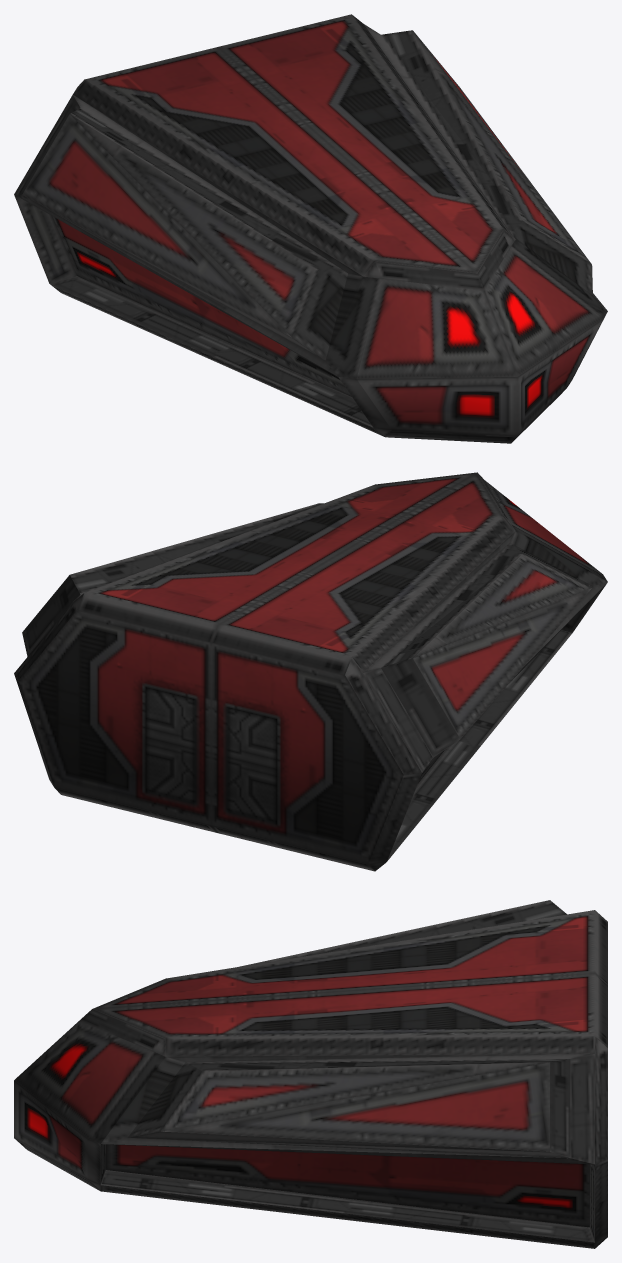
The model's file is BFP_FowardHullSection_01.FBX.
3 renders of one model, top to bottom at view 1: azimuth 30°, elevation 25°; view 2: azimuth 150°, elevation 25°; view 3: azimuth 270°, elevation 25°, orthographic. The views are drawn at different scales.
Visible parts, largest first — view 1: BFP_FowardHullSection_01; view 2: BFP_FowardHullSection_01; view 3: BFP_FowardHullSection_01.
Part boxes in pixels (x1,y1,x2,y2): BFP_FowardHullSection_01: (14,14,607,443); BFP_FowardHullSection_01: (14,472,607,871); BFP_FowardHullSection_01: (14,900,607,1248).
Bounding box in the file's own units: 189 × 85.41 × 228.
Materials: 1 (1 with a texture image).
